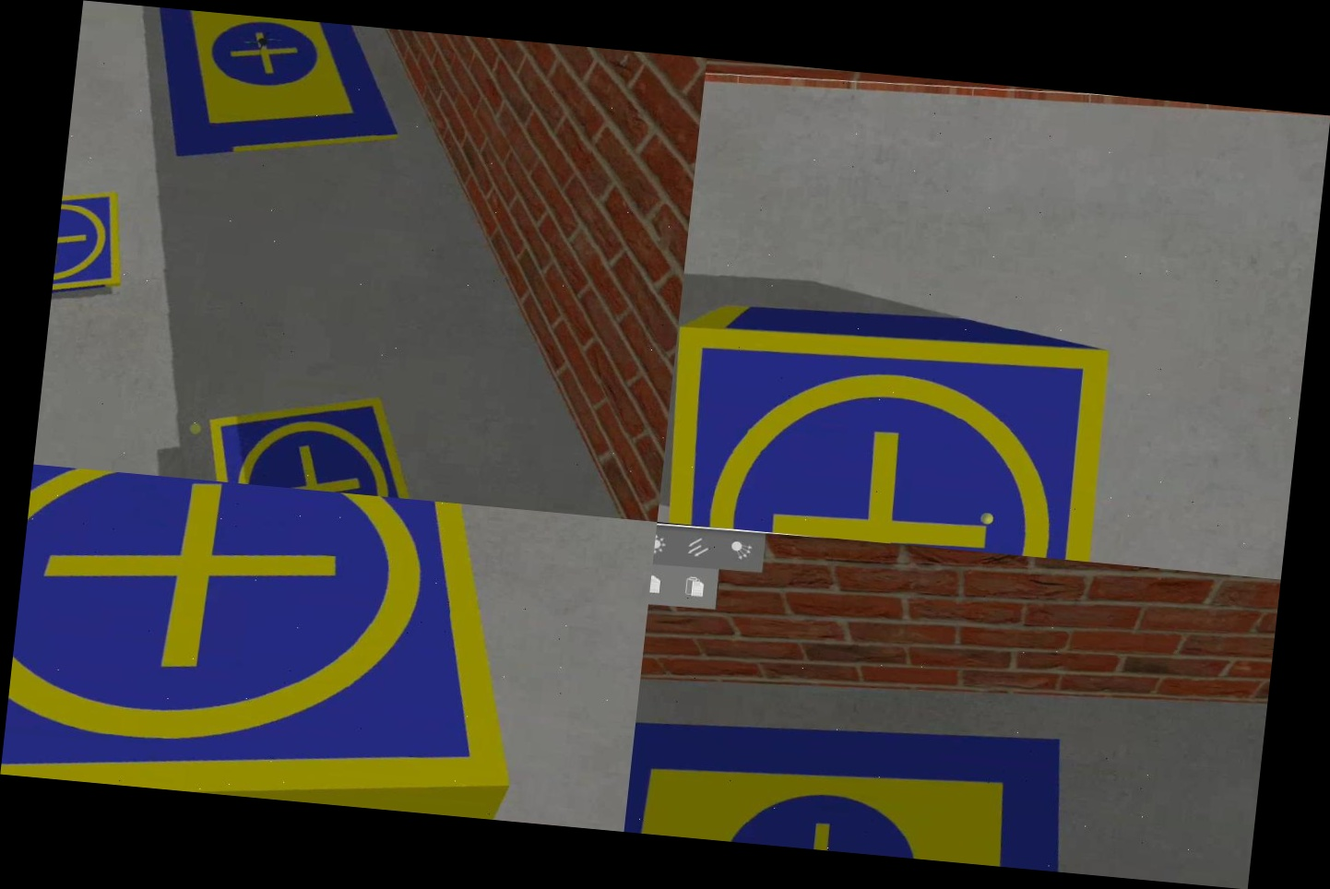large_base: (623, 699, 1093, 873), (137, 6, 406, 178)
small_base: (0, 465, 544, 821), (657, 307, 1112, 562), (201, 383, 450, 502), (51, 188, 128, 311)
